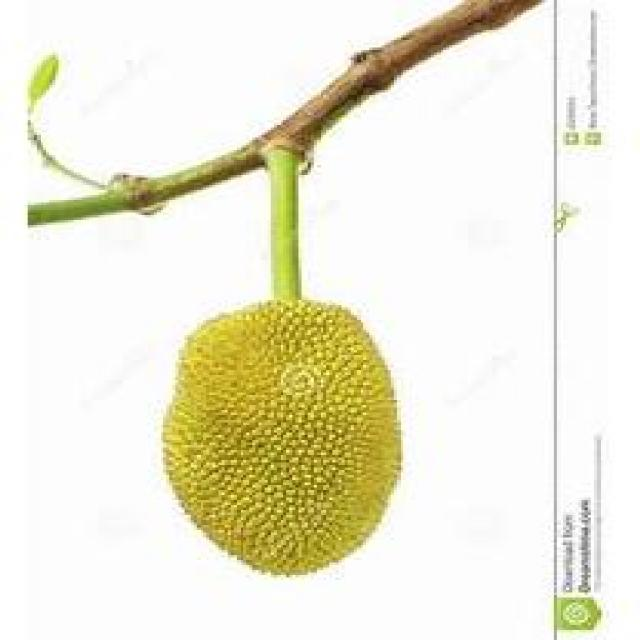Fruit: (138, 282, 418, 598)
